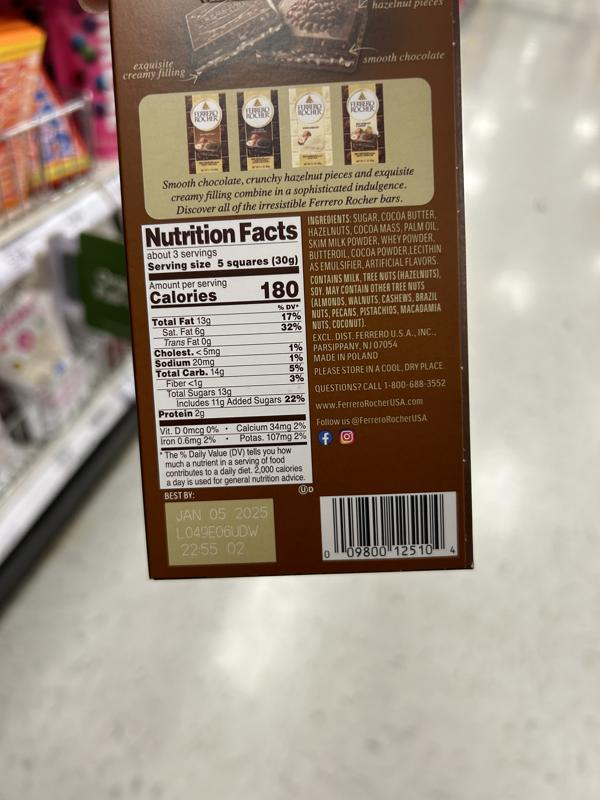ingredients: (304, 208, 447, 332)
